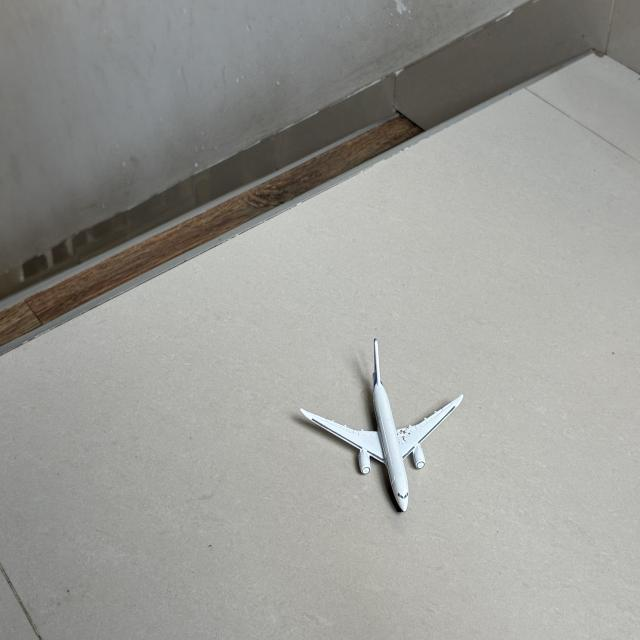air-plane: (291, 336, 463, 513)
